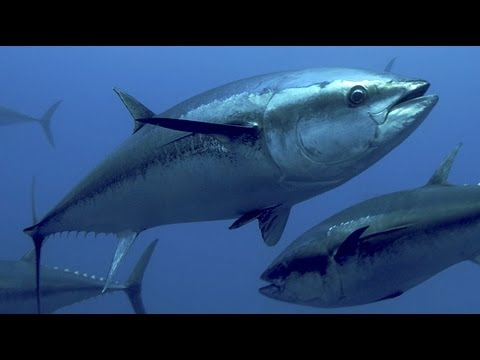Bluefina Tuna: (27, 56, 442, 296)
